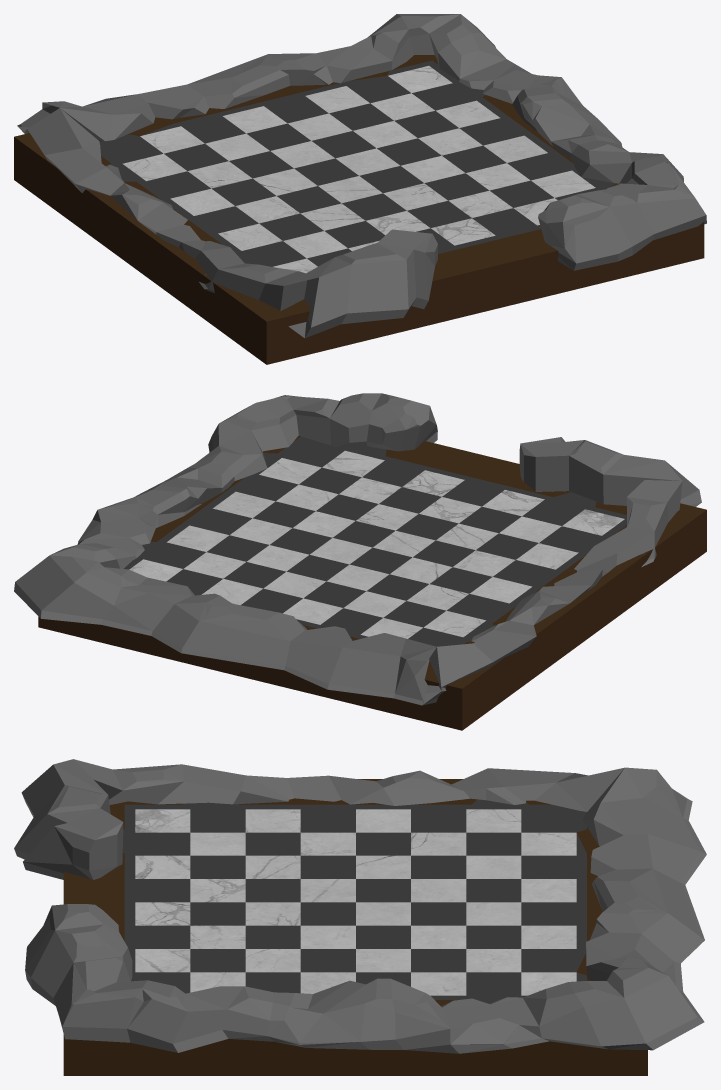
File: chessboard.fbx
The picture shows the model from 3 angles, top to bottom: view 1: azimuth 30°, elevation 25°; view 2: azimuth 150°, elevation 25°; view 3: azimuth 270°, elevation 25°; orthographic projection. The views are drawn at different scales.
Parts seen in each view (by area): view 1: Cube, Cube.001; view 2: Cube, Cube.001; view 3: Cube, Cube.001.
Part boxes in pixels (left/top/right/bottom): Cube: left=14, top=55, right=704, bottom=364; Cube.001: left=17, top=14, right=706, bottom=338; Cube: left=38, top=435, right=706, bottom=730; Cube.001: left=14, top=393, right=701, bottom=705; Cube: left=63, top=779, right=647, bottom=1075; Cube.001: left=14, top=759, right=706, bottom=1053.
Size of the model in its own units: 1150 by 238 by 1256.
